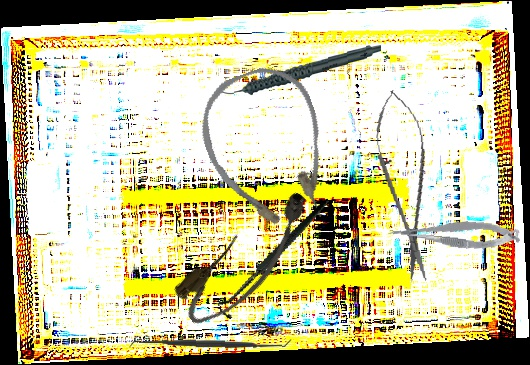Cannula: (186, 55, 350, 246), (167, 181, 330, 337)
Handpiece: (216, 43, 384, 98)
Hook Surgical: (197, 198, 354, 322)
Micro Scissor: (367, 86, 444, 286), (387, 210, 522, 256)
Spatula Surgical: (128, 332, 293, 355)
